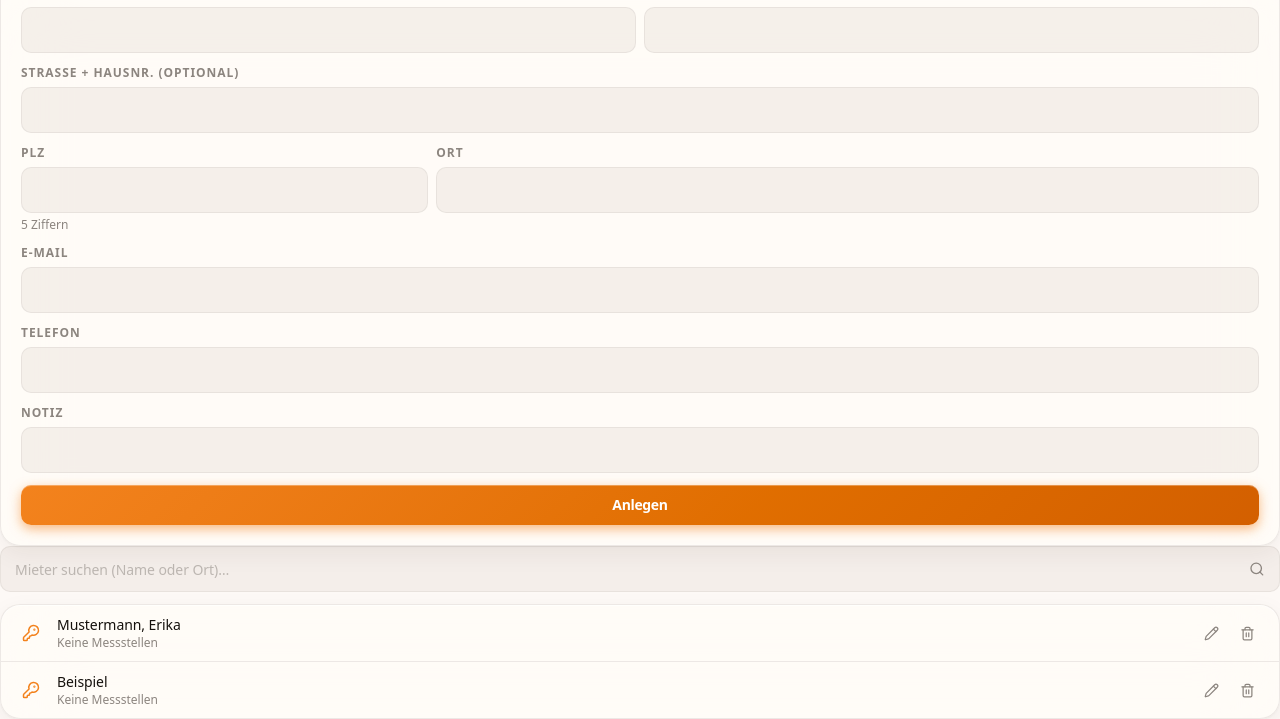
Scenario: MietersAdminPage › filtert die Liste über das Suchfeld
(page scrolled)
Expected: the text "Mustermann, Erika" is shown, [57, 615, 181, 634]
Type "beispiel" into the field labelled "suchen" at x=628, y=569, box [15, 547, 1241, 591]
(page scrolled)
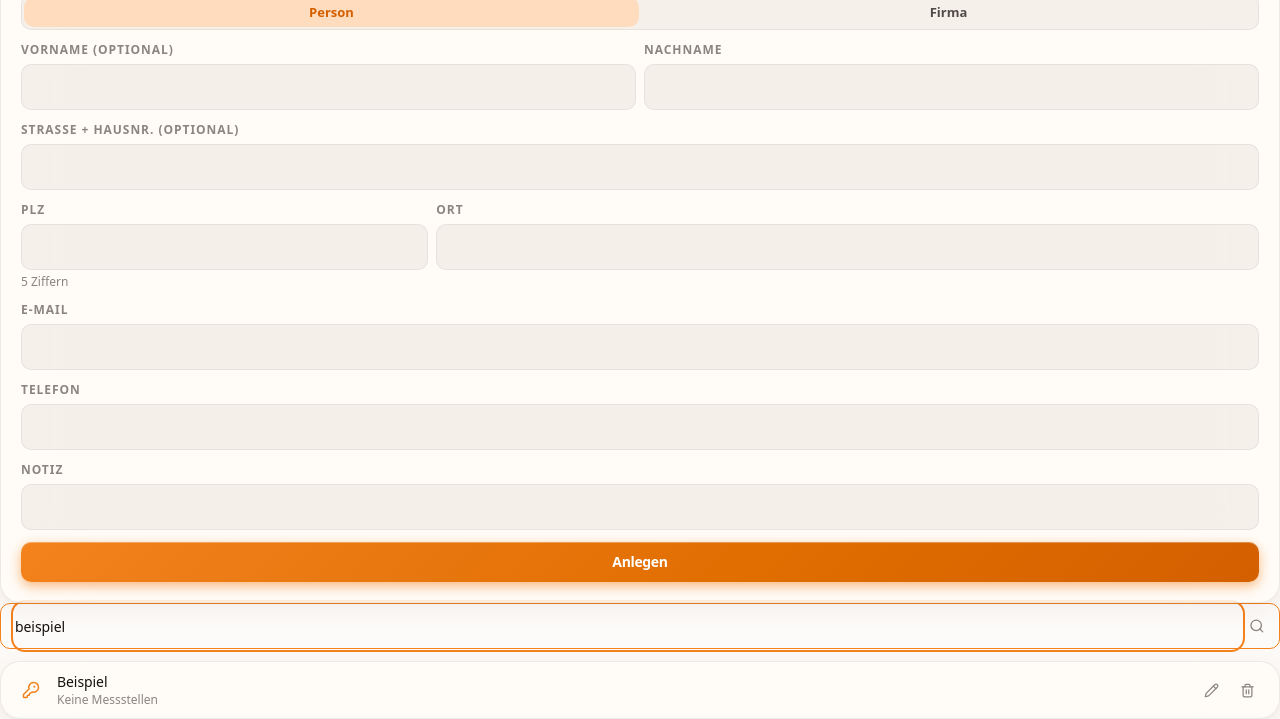
Expected: the text "Beispiel" is shown, [57, 672, 108, 691]
Expected: the link "Mustermann, Erika" is gone
